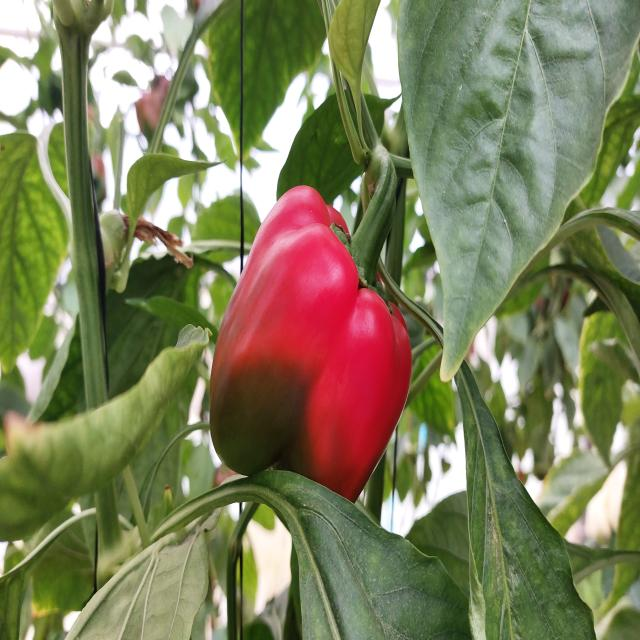Red-Ready-to-Harvest: (206, 197, 411, 521)
